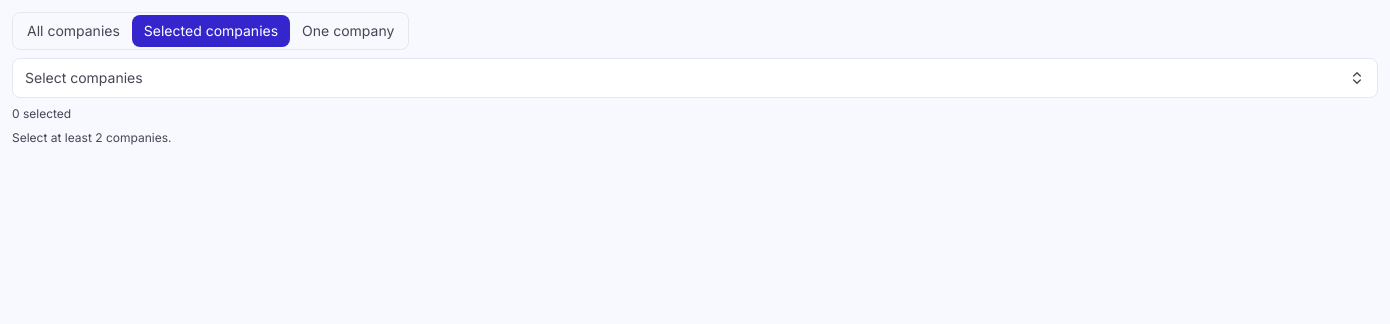
it: CompanyTargetSelector › select all visible affects only the filtered results
Click the button "Select companies": x=84, y=78 [12, 58, 1378, 98]
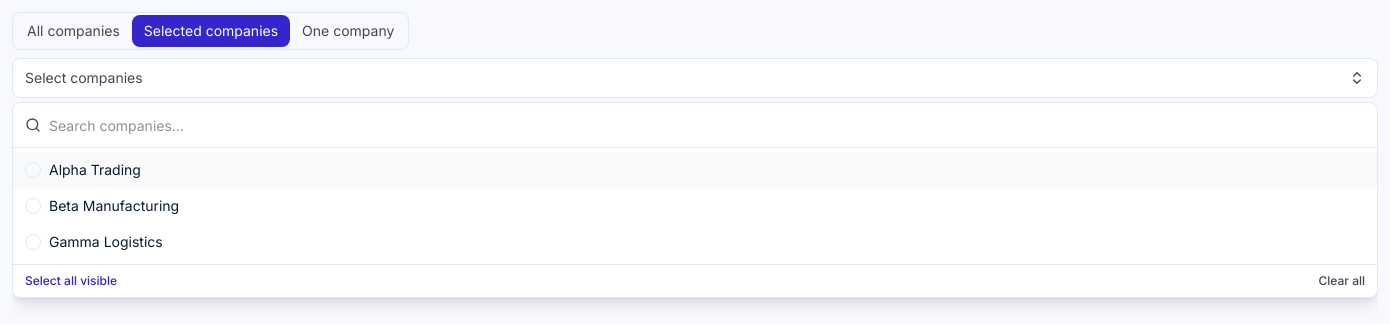
In the dropdown labelled "Search companies…": x=707, y=125 [49, 111, 1365, 139], type "Trad"
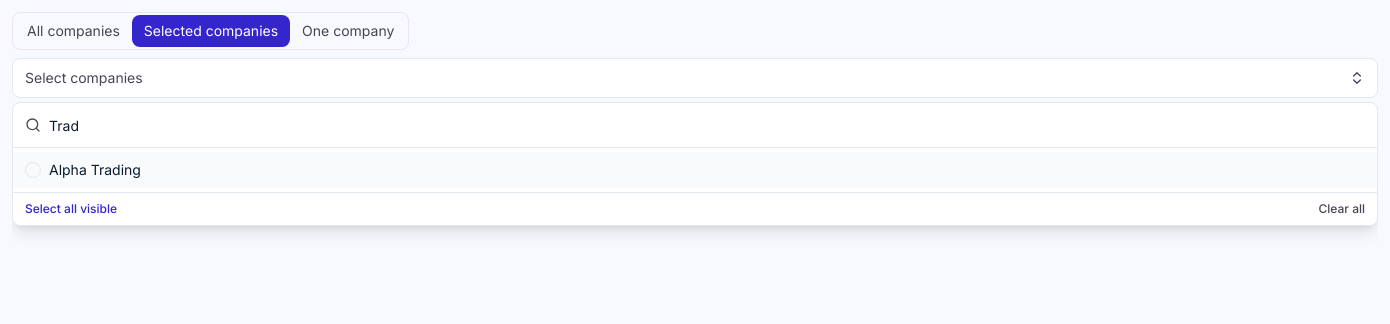
Expected: the number of options is 1, [13, 152, 1377, 188]
Click the button "Select all visible": x=71, y=209 [25, 201, 117, 217]
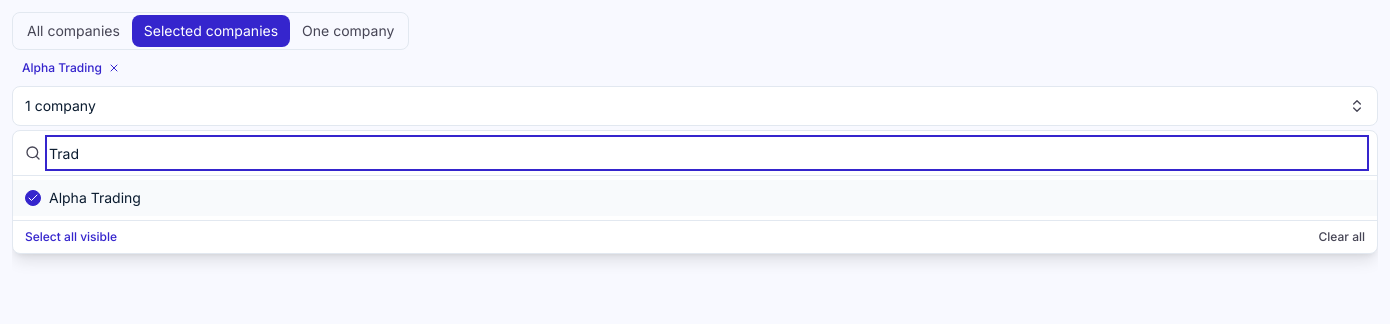
Expected: the text "1 selected" is shown, [12, 134, 68, 149]
